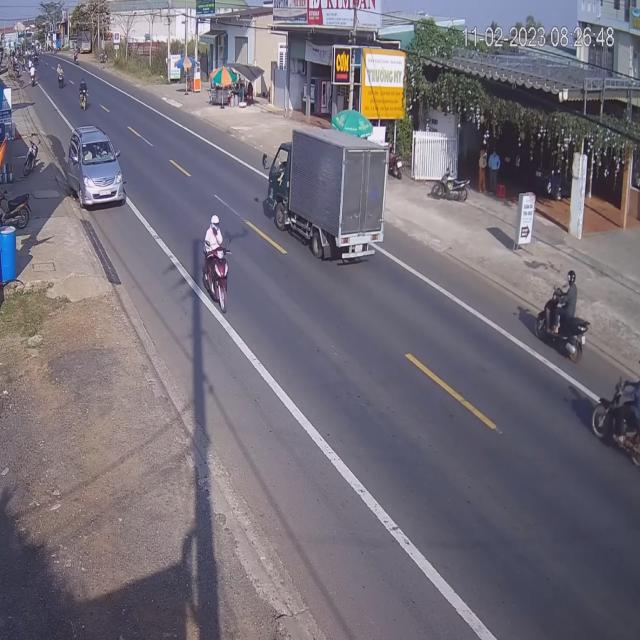car: (67, 126, 125, 210)
motorbike: (537, 274, 592, 364), (596, 372, 640, 474), (202, 215, 232, 318), (80, 81, 90, 111), (59, 62, 67, 88)
truck: (266, 132, 384, 263)
